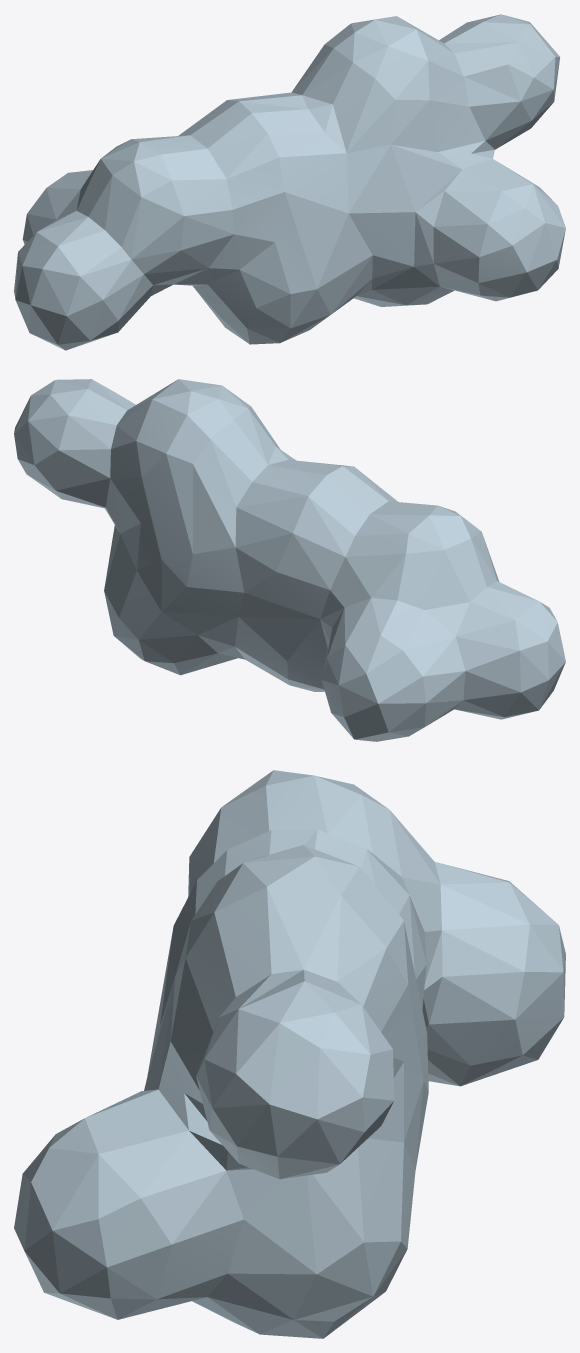
The model's file is medium_cloud_10.fbx.
The picture shows the model from 3 angles, top to bottom: view 1: azimuth 30°, elevation 25°; view 2: azimuth 150°, elevation 25°; view 3: azimuth 270°, elevation 25°; orthographic projection. The views are drawn at different scales.
Parts seen in each view (by area): view 1: cloud_60; view 2: cloud_60; view 3: cloud_60.
Boxes of the visible parts, x1,y1,x2,y2 form: cloud_60: (14,14,565,350); cloud_60: (14,379,565,741); cloud_60: (14,770,565,1338).
Size of the model in its own units: 513 by 262 by 285.
